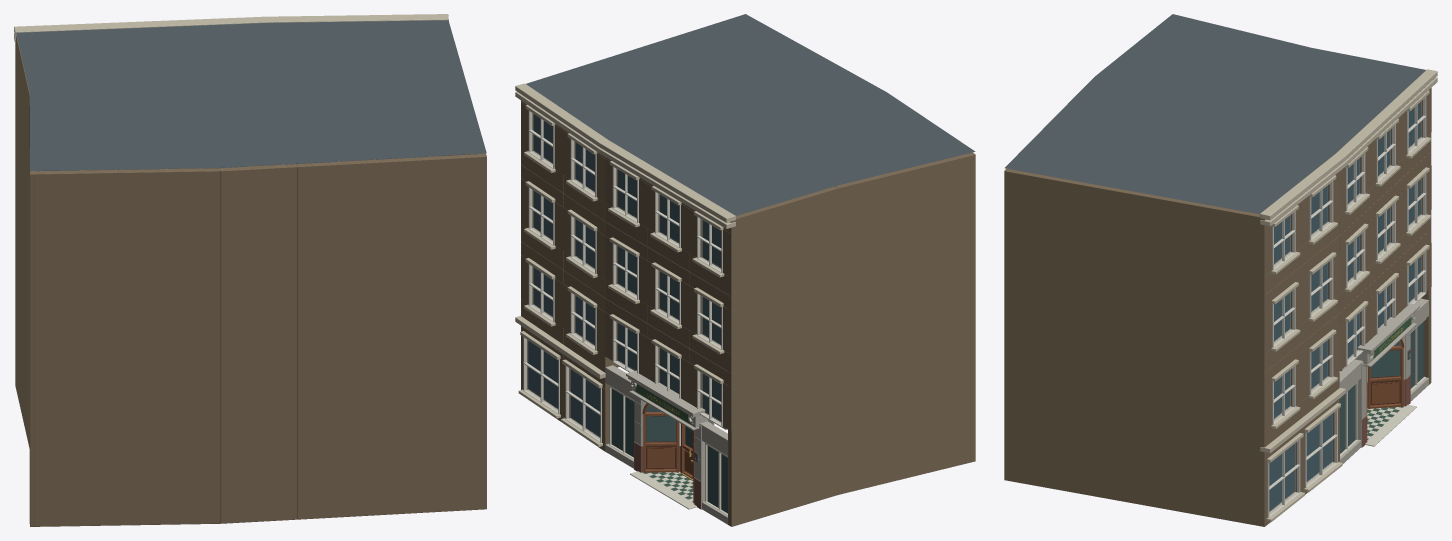
Rendered from lch-exterior-dc550b7a1c36.glb.
The picture shows the model from 3 angles, left to right: view 1: azimuth 30°, elevation 25°; view 2: azimuth 150°, elevation 25°; view 3: azimuth 270°, elevation 25°; orthographic projection. The views are drawn at different scales.
Visible parts, largest first — view 1: LCH.001; view 2: LCH.001; view 3: LCH.001.
Part boxes in pixels (box(x1,y1,x2,y2)): LCH.001: box(14, 14, 486, 526); LCH.001: box(515, 14, 975, 526); LCH.001: box(1004, 14, 1437, 526).
Bounding box in the file's own units: 18.97 × 13.65 × 17.15.
